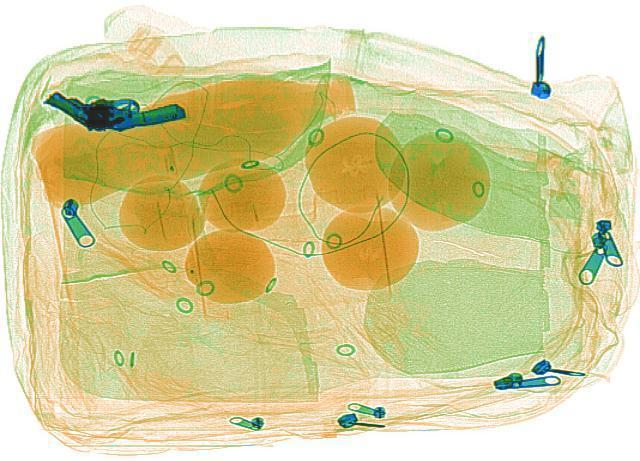Gun: (36, 78, 188, 145)
